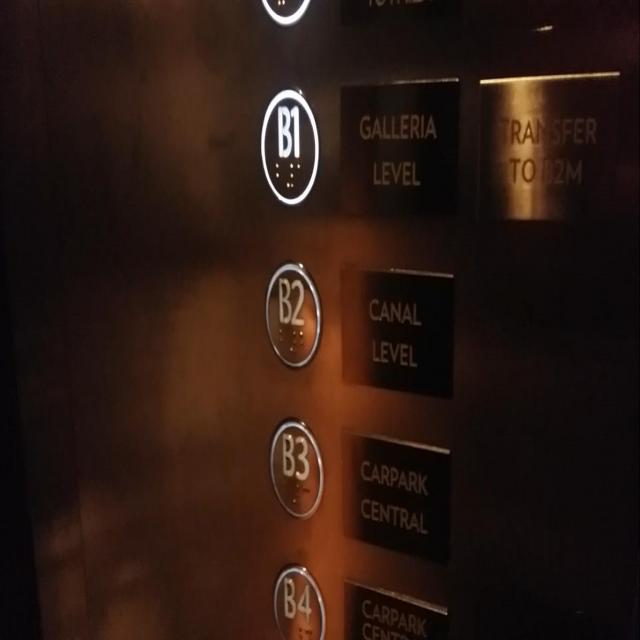B1: (257, 84, 321, 208)
B2: (262, 258, 322, 372)
B3: (266, 415, 324, 520)
B4: (270, 562, 326, 639)
